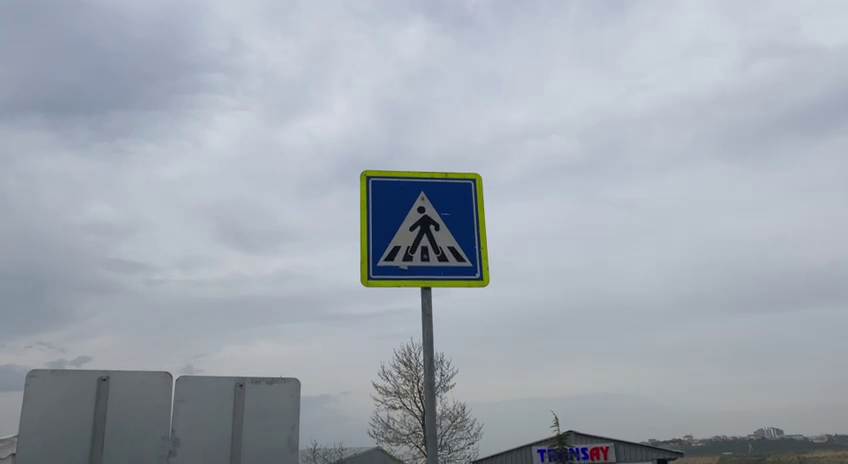pedestrianCrossing: (357, 165, 491, 292)
